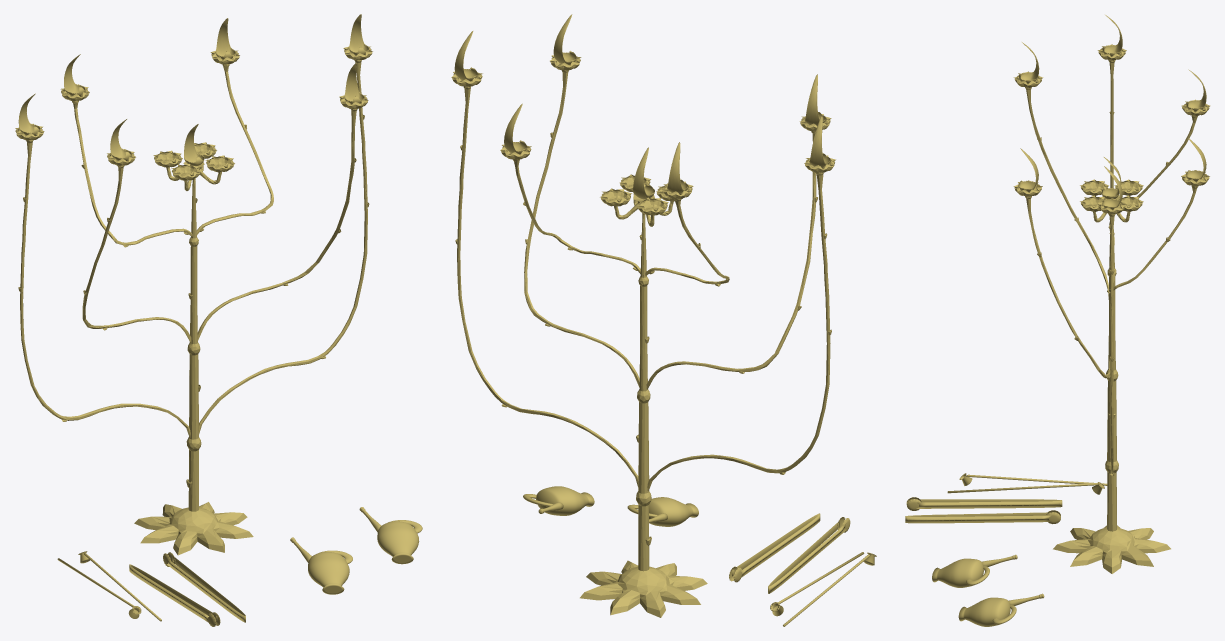
The model's file is lampstand-menorah.glb.
3 renders of one model, left to right at view 1: azimuth 30°, elevation 25°; view 2: azimuth 150°, elevation 25°; view 3: azimuth 270°, elevation 25°, orthographic. The views are drawn at different scales.
Visible parts, largest first — view 1: LampStand.001, Utensils, Tweezers, Tweezers.001, Utensils.001; view 2: LampStand.001, Utensils, Tweezers.001, Tweezers, Utensils.001; view 3: LampStand.001, Utensils, Tweezers.001, Tweezers, Utensils.001.
Part boxes in pixels (x1=…): LampStand.001: x1=15, y1=45, x2=372, y2=555; Utensils: x1=290, y1=507, x2=422, y2=594; Tweezers: x1=129, y1=564, x2=220, y2=626; Tweezers.001: x1=163, y1=552, x2=245, y2=622; Utensils.001: x1=57, y1=551, x2=161, y2=621; LampStand.001: x1=451, y1=52, x2=835, y2=617; Utensils: x1=523, y1=486, x2=698, y2=526; Tweezers.001: x1=729, y1=513, x2=820, y2=582; Tweezers: x1=768, y1=517, x2=850, y2=593; Utensils.001: x1=770, y1=552, x2=876, y2=626; LampStand.001: x1=1013, y1=44, x2=1210, y2=573; Utensils: x1=932, y1=554, x2=1044, y2=626; Tweezers.001: x1=905, y1=510, x2=1060, y2=524; Tweezers: x1=906, y1=497, x2=1062, y2=510; Utensils.001: x1=947, y1=473, x2=1107, y2=494.
Size of the model in its own units: 3.97 by 5.21 by 3.08.
